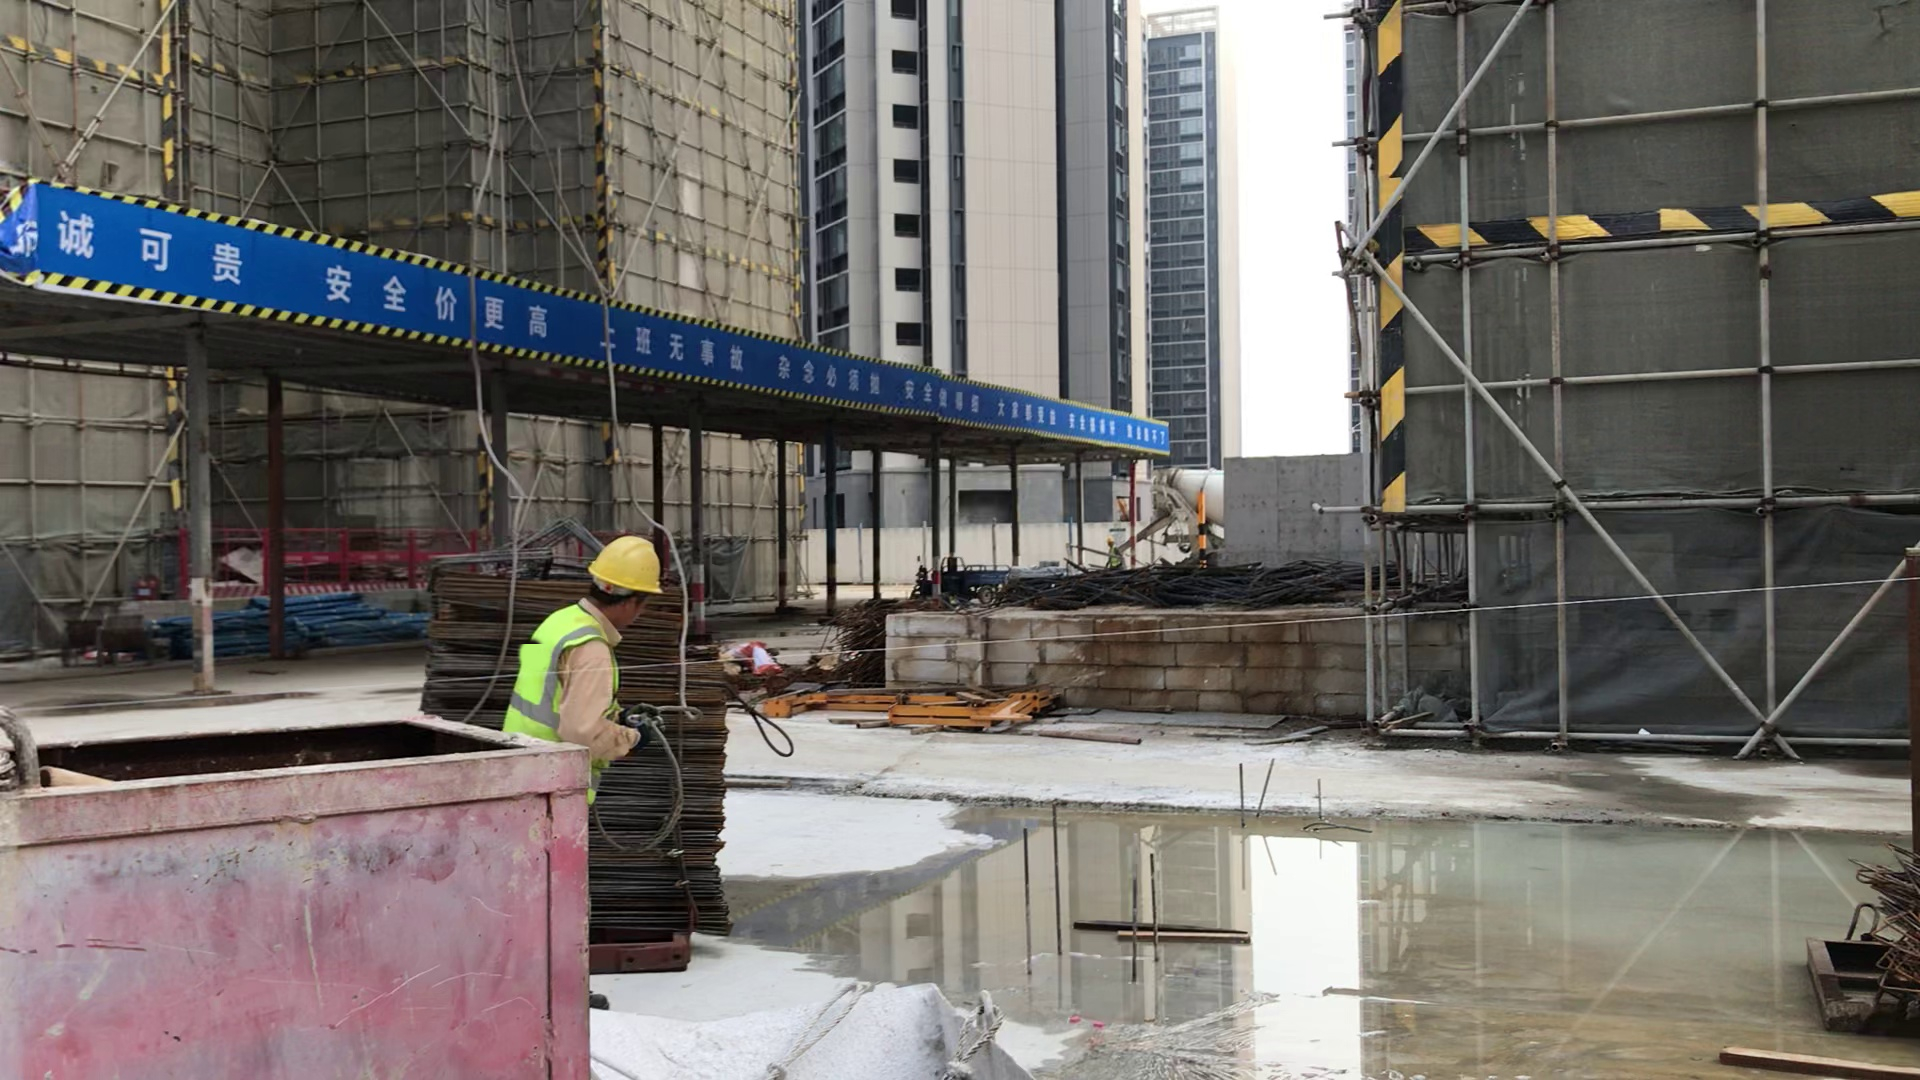helmet: (590, 528, 662, 609)
person: (498, 510, 663, 795)
slogan: (29, 181, 718, 363)
vest: (498, 615, 634, 773)
